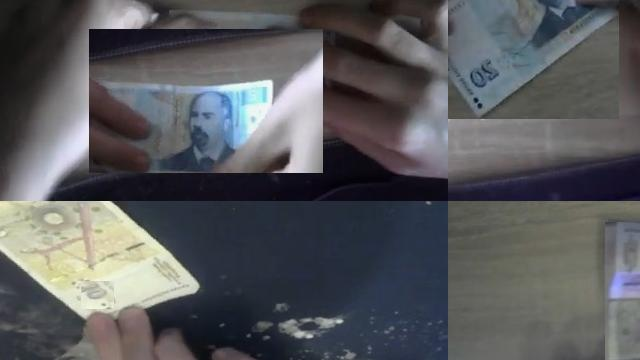10leva: (605, 222, 640, 360), (82, 281, 114, 309)
20leva: (89, 29, 323, 173), (448, 0, 619, 119)
